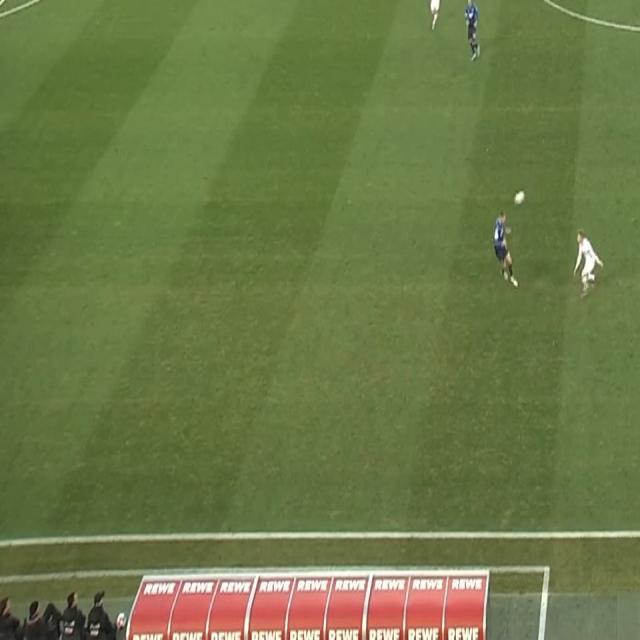ball: (513, 189, 525, 207)
